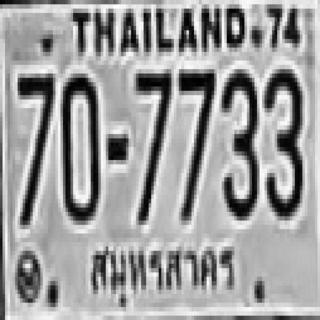N00: (60, 69, 98, 220)
N03: (219, 65, 257, 216), (262, 65, 300, 216)
N07: (15, 69, 53, 225), (176, 65, 214, 221), (134, 69, 169, 220), (134, 69, 169, 195)
P58: (86, 236, 240, 300)
